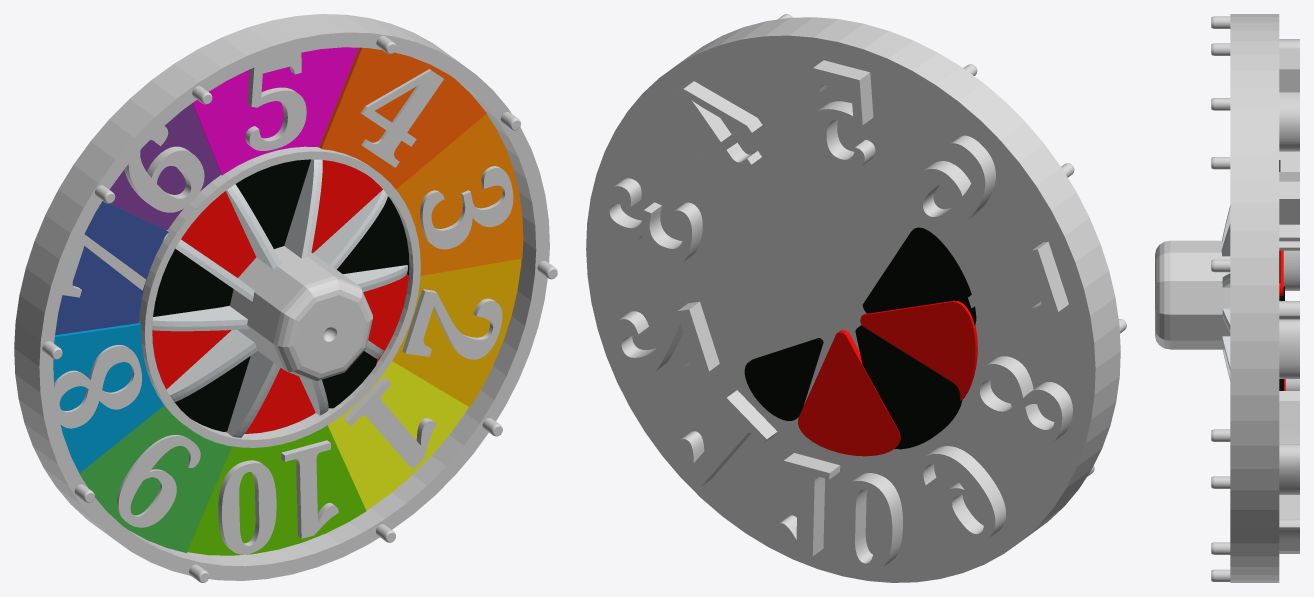
3 renders of one model, left to right at view 1: azimuth 30°, elevation 25°; view 2: azimuth 150°, elevation 25°; view 3: azimuth 270°, elevation 25°, orthographic. The views are drawn at different scales.
Parts seen in each view (by area): view 1: group_0_16448250, group_0_14541540, group_0_1536, group_0_16713216, group_0_16737027, group_0_16747520, group_0_4634441, group_0_16712663, group_0_6605056, group_0_16104192, group_0_16121626, group_0_3888547 (+2 smaller); view 2: group_0_16448250, group_0_1536, group_0_16713216; view 3: group_0_16448250, group_0_14541540, group_0_16713216.
Part boxes in pixels (x1=…): group_0_16448250: x1=14, y1=14, x2=557, y2=582; group_0_14541540: x1=139, y1=159, x2=407, y2=437; group_0_1536: x1=153, y1=159, x2=409, y2=431; group_0_16713216: x1=152, y1=160, x2=408, y2=433; group_0_16737027: x1=319, y1=47, x2=486, y2=189; group_0_16747520: x1=396, y1=114, x2=523, y2=275; group_0_4634441: x1=79, y1=405, x2=231, y2=552; group_0_16712663: x1=192, y1=47, x2=358, y2=175; group_0_6605056: x1=187, y1=425, x2=366, y2=555; group_0_16104192: x1=392, y1=258, x2=521, y2=407; group_0_16121626: x1=327, y1=361, x2=468, y2=510; group_0_3888547: x1=55, y1=201, x2=168, y2=335; group_0_16448250: x1=586, y1=14, x2=1126, y2=582; group_0_1536: x1=744, y1=227, x2=976, y2=449; group_0_16713216: x1=798, y1=300, x2=977, y2=456; group_0_16448250: x1=1155, y1=14, x2=1299, y2=582; group_0_14541540: x1=1221, y1=205, x2=1230, y2=380; group_0_16713216: x1=1279, y1=250, x2=1285, y2=390.
Bounding box in the file's own units: 49 × 49 × 12.47.
